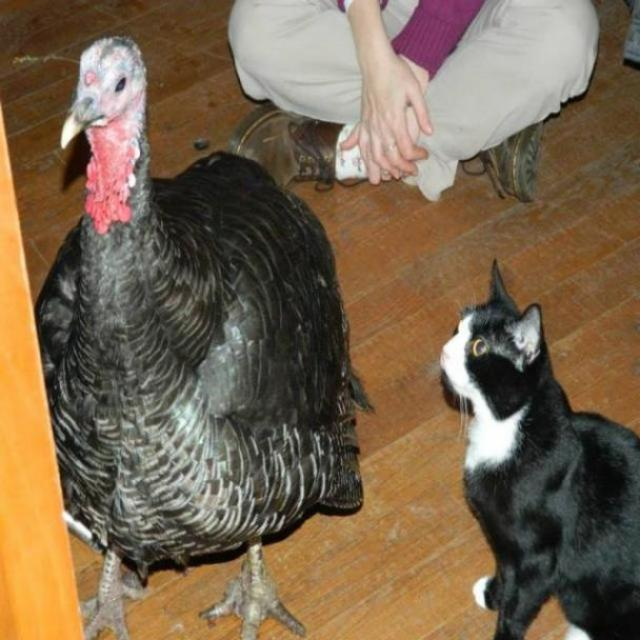Chicken: (53, 70, 355, 611)
